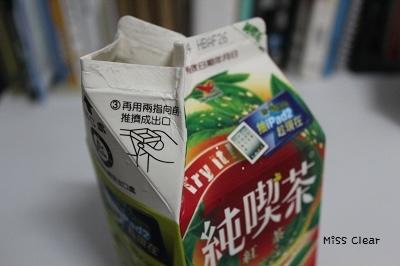cardboard: (81, 16, 324, 265)
